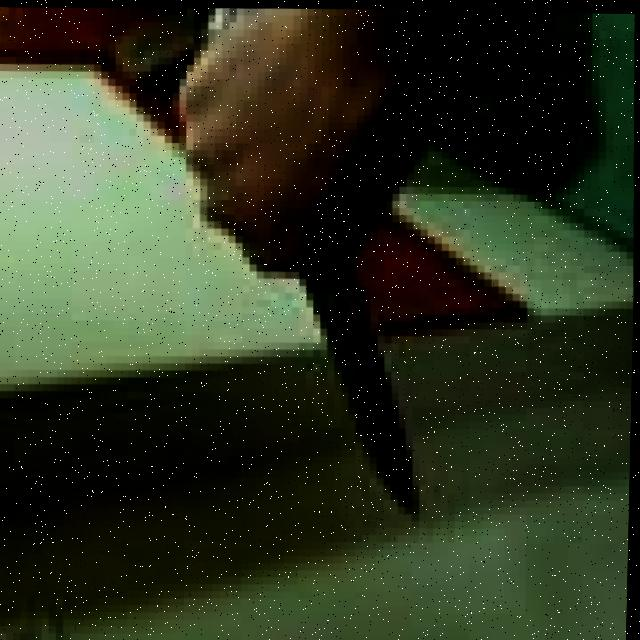knife: (296, 232, 430, 518)
